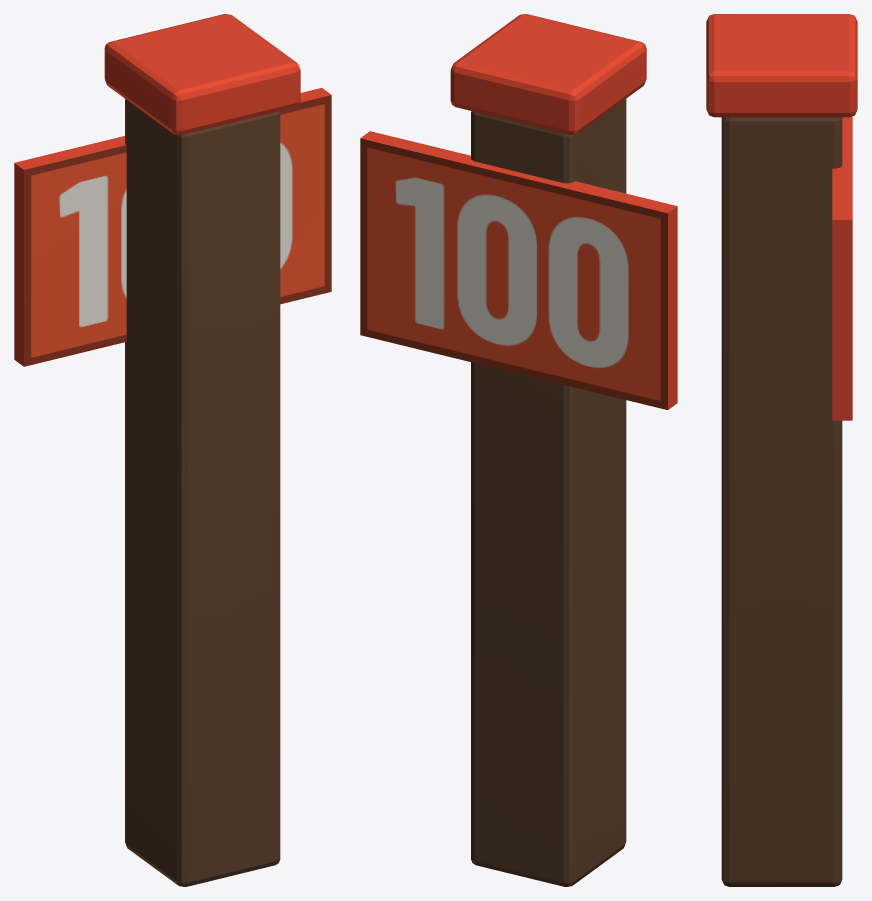
The model's file is yardage_marker_100.glb.
3 views of the same model, side by side, from view 1: azimuth 30°, elevation 25°; view 2: azimuth 150°, elevation 25°; view 3: azimuth 270°, elevation 25° (orthographic). The views are drawn at different scales.
Parts seen in each view (by area): view 1: Post, Plate, Cap; view 2: Post, Plate, Cap; view 3: Post, Cap, Plate.
Part boxes in pixels (box(x1,y1,x2,y2)): Post: box(125, 99, 280, 886); Plate: box(14, 88, 331, 366); Cap: box(104, 14, 300, 134); Post: box(471, 99, 626, 886); Plate: box(360, 131, 677, 409); Cap: box(450, 14, 646, 134); Post: box(721, 117, 842, 886); Cap: box(706, 14, 857, 117); Plate: box(832, 116, 852, 420).
Size of the model in its own units: 0.36 by 0.9 by 0.15.
Materials: 2 (2 with a texture image).
